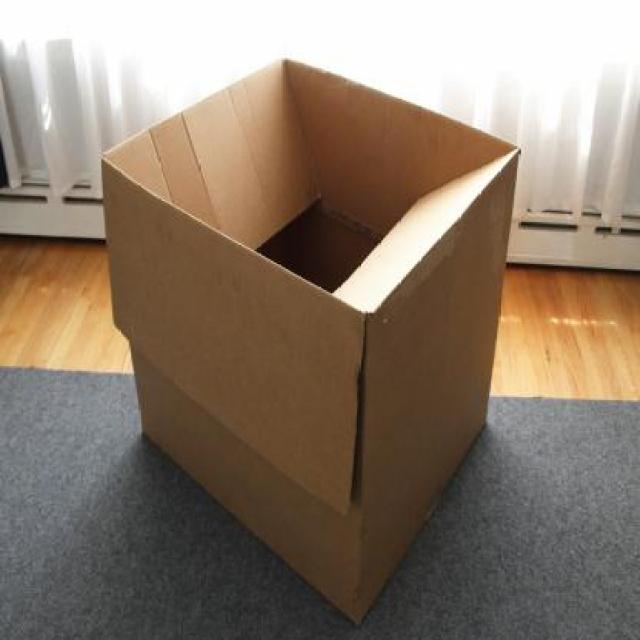box: (91, 41, 546, 640)
